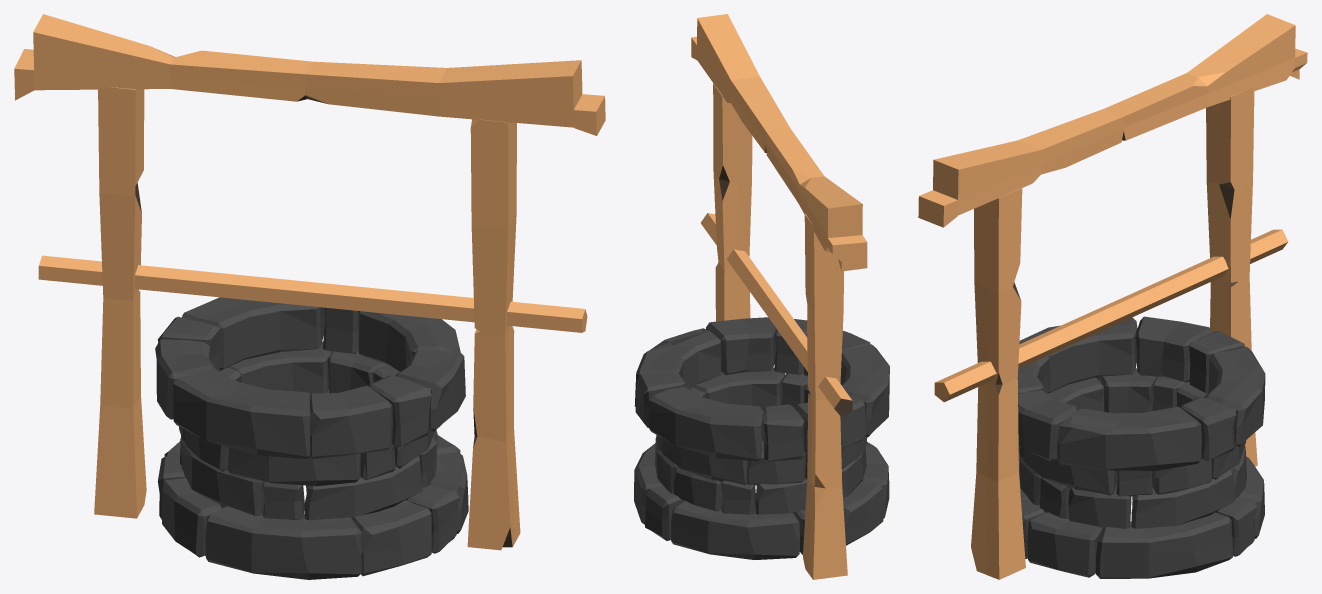
The model's file is WELL.fbx.
3 renders of one model, left to right at view 1: azimuth 30°, elevation 25°; view 2: azimuth 150°, elevation 25°; view 3: azimuth 270°, elevation 25°, orthographic. The views are drawn at different scales.
Visible parts, largest first — view 1: Cube.009; view 2: Cube.009; view 3: Cube.009.
Part boxes in pixels (x1,y1,x2,y2): Cube.009: [14, 14, 605, 579]; Cube.009: [634, 14, 889, 579]; Cube.009: [918, 14, 1307, 579].
Size of the model in its own units: 492 by 565 by 463.
